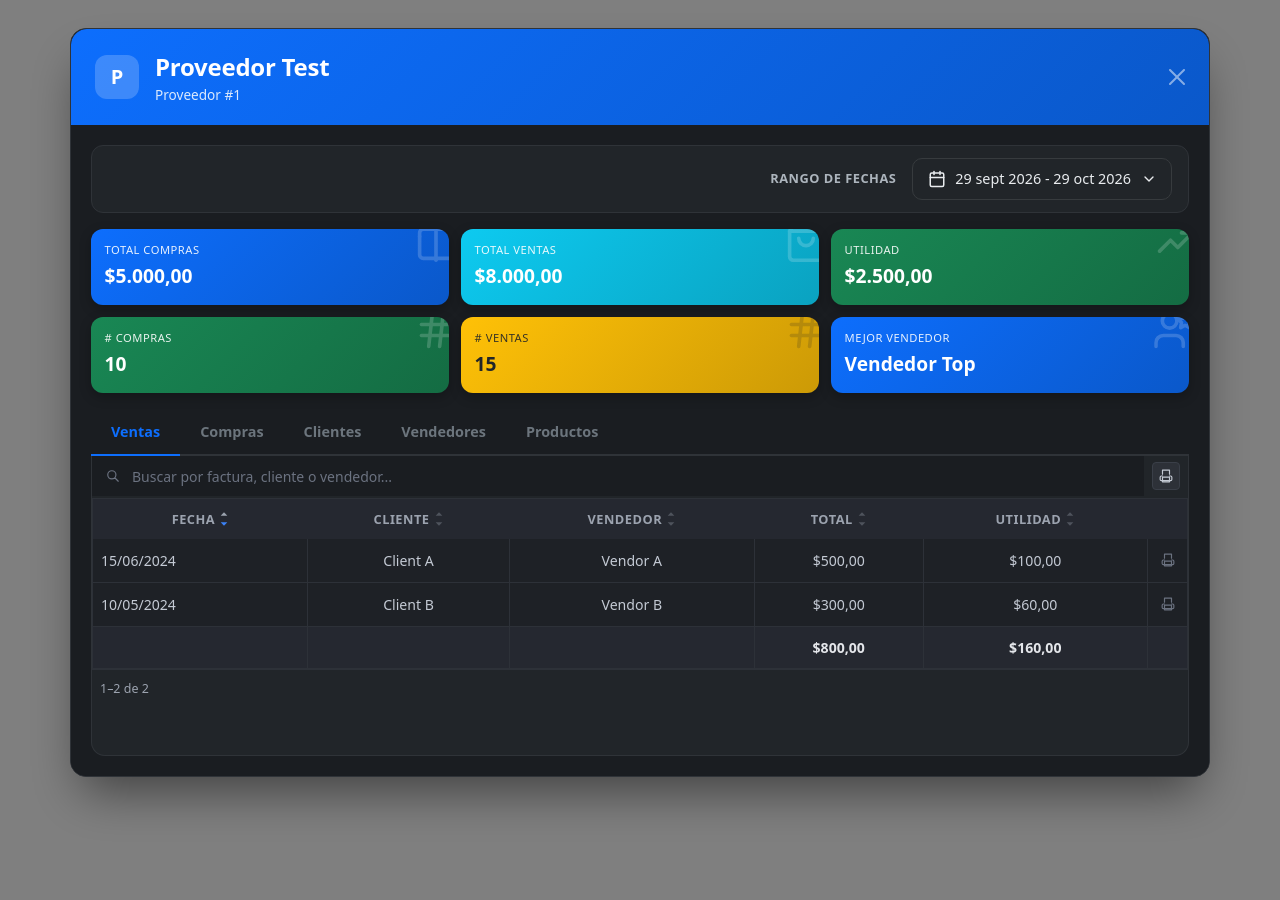
Test: ProviderDashboardModal › shows empty state when purchases data is empty
This screenshot has width=1280, height=900.
Click the button "Compras": (232, 432) [180,408,284,456]
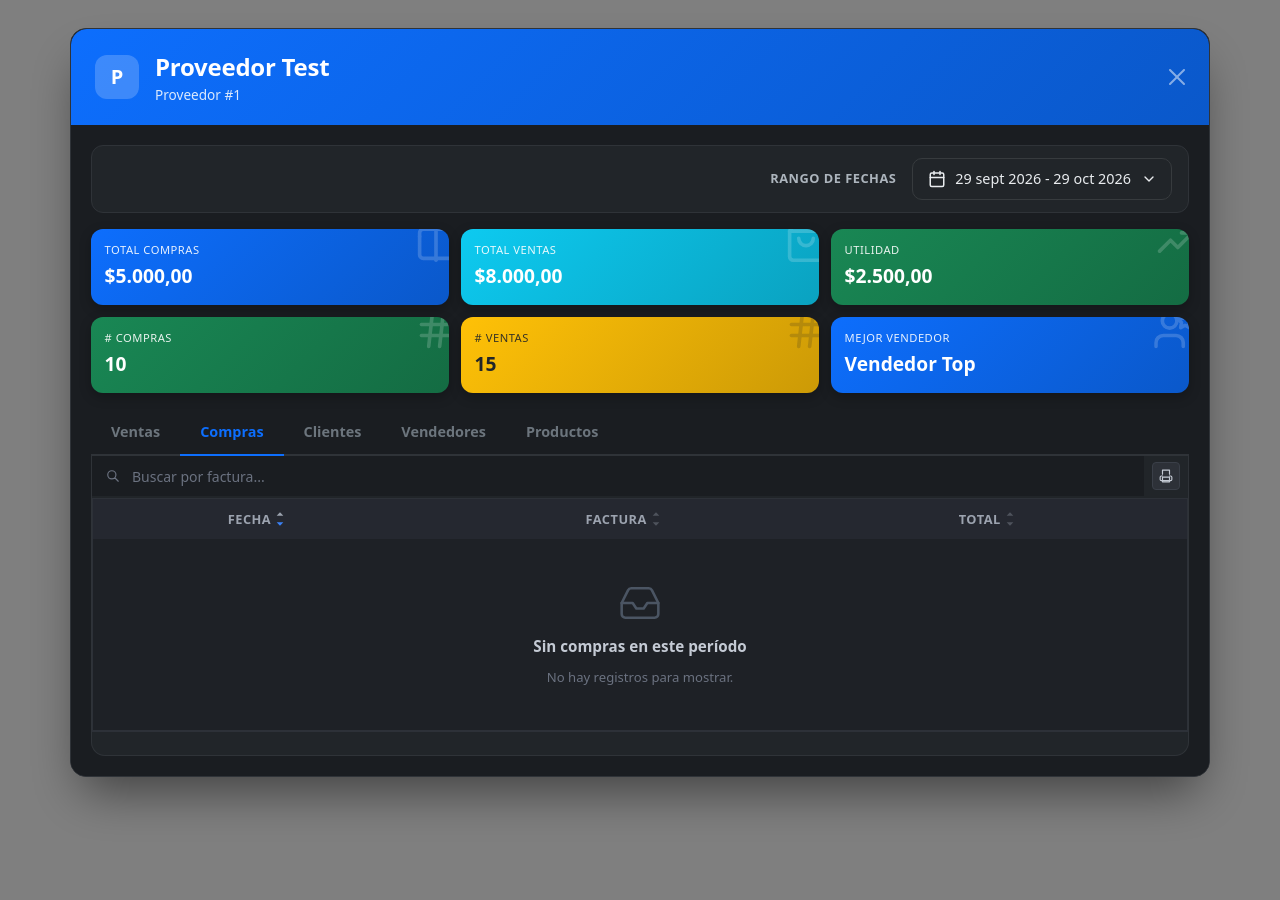
expect the text "Sin compras en este período" is shown: met, box [533,635,747,658]
